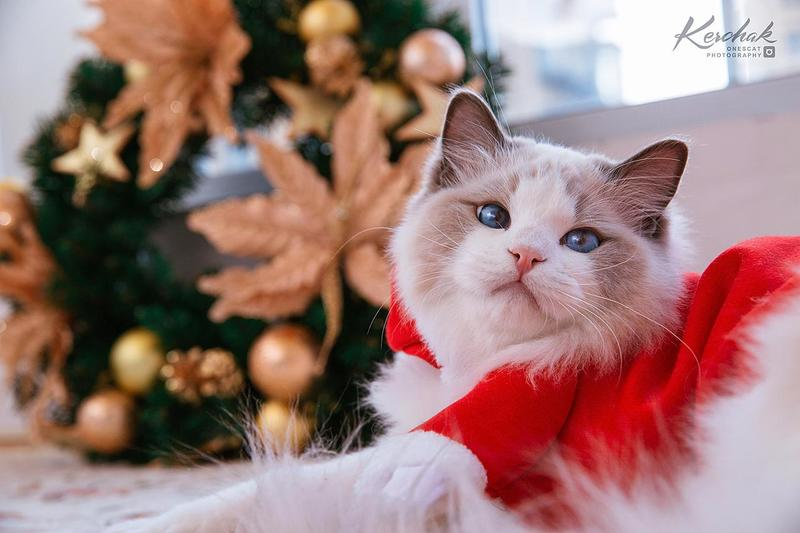cat: (373, 70, 712, 396)
